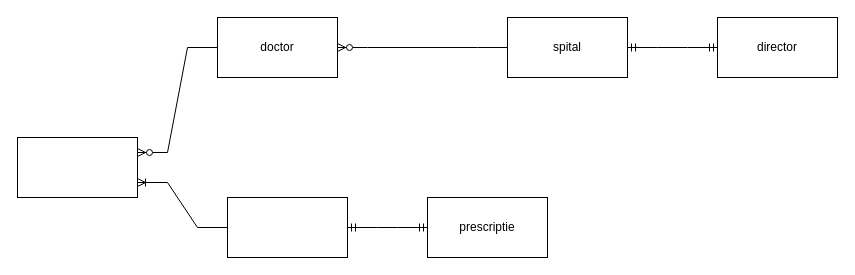
The diagram is 855 pixels wide and 275 high, and some of its shapes have lost their labels. The centre of each missing label's shape, as x and y in pixels:
doctor_pacient: the point at 77,167
pacient: the point at 287,227
